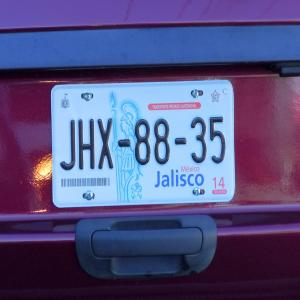Vehicle-registration-plate: (50, 85, 237, 203)
